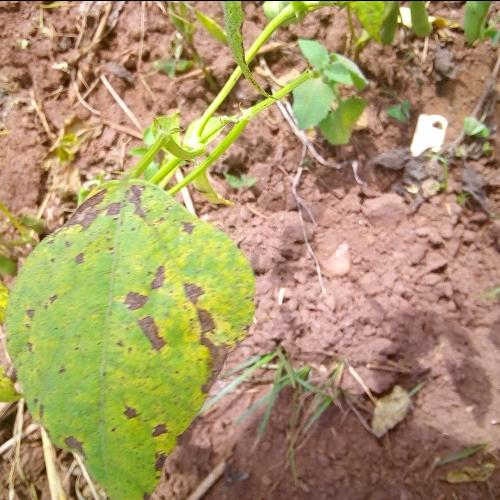hawar: (42, 176, 158, 254), (184, 269, 242, 392), (106, 402, 178, 473), (19, 285, 68, 354), (134, 314, 169, 358), (121, 275, 155, 320), (60, 426, 95, 464), (176, 215, 202, 246), (150, 260, 173, 287)
